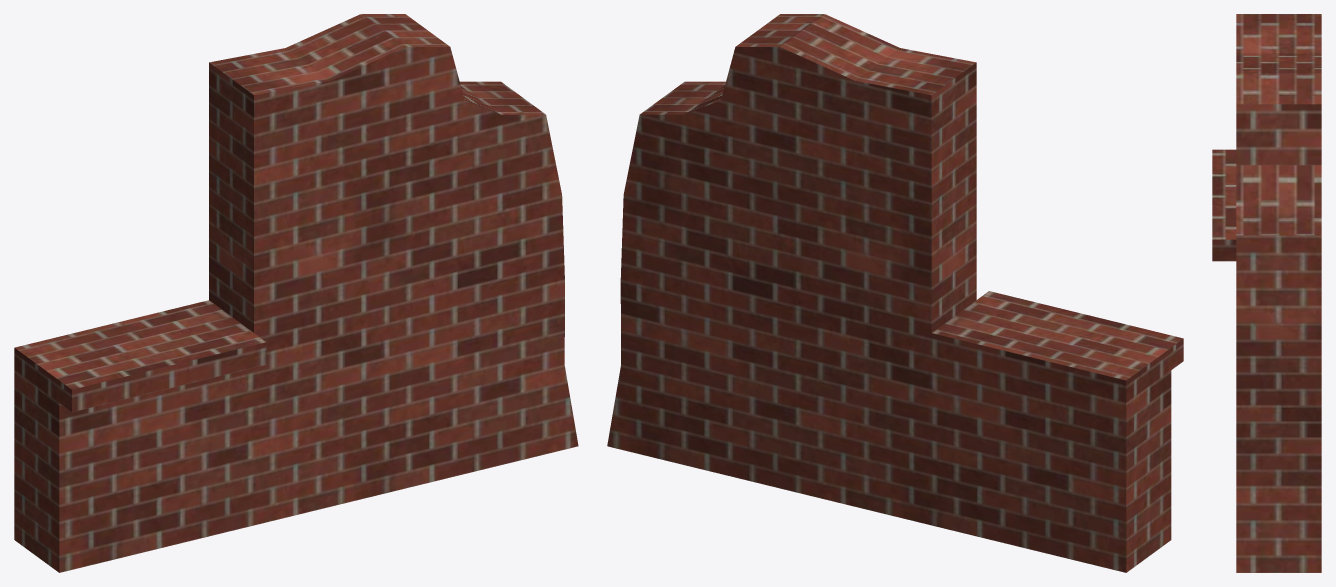
File: debris_seattle_brick_wall.glb
The picture shows the model from 3 angles, left to right: view 1: azimuth 30°, elevation 25°; view 2: azimuth 150°, elevation 25°; view 3: azimuth 270°, elevation 25°; orthographic projection. The views are drawn at different scales.
Visible parts, largest first — view 1: debris_seattle_brick_wall; view 2: debris_seattle_brick_wall; view 3: debris_seattle_brick_wall.
Part boxes in pixels (x1=…): debris_seattle_brick_wall: x1=14, y1=14, x2=578, y2=572; debris_seattle_brick_wall: x1=607, y1=14, x2=1183, y2=572; debris_seattle_brick_wall: x1=1212, y1=14, x2=1321, y2=572.
Size of the model in its own units: 2.4 by 1.95 by 0.46.
Materials: 1 (1 with a texture image).
